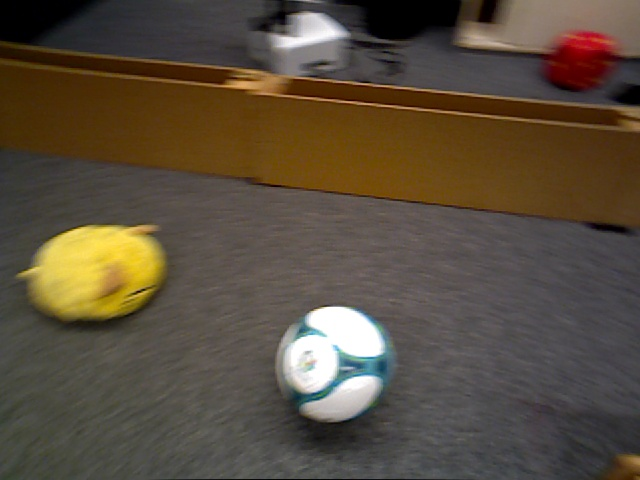grasp: (27, 226, 165, 320)
kick: (276, 304, 395, 422)
